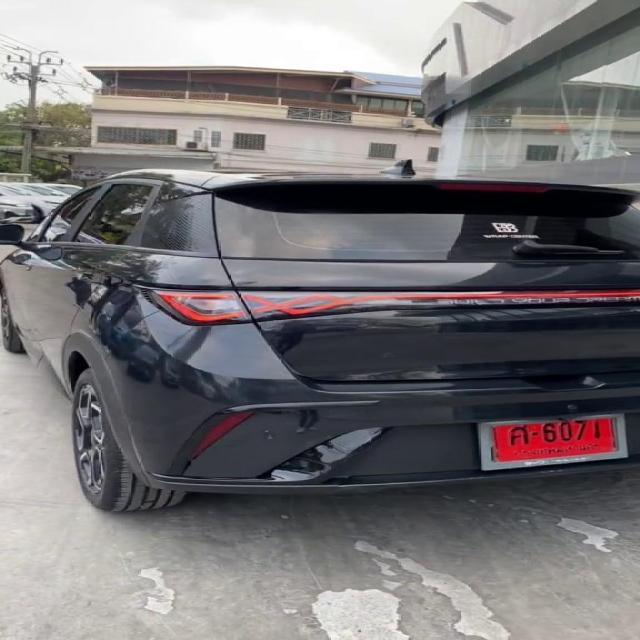Hatchback: (0, 171, 639, 512)
